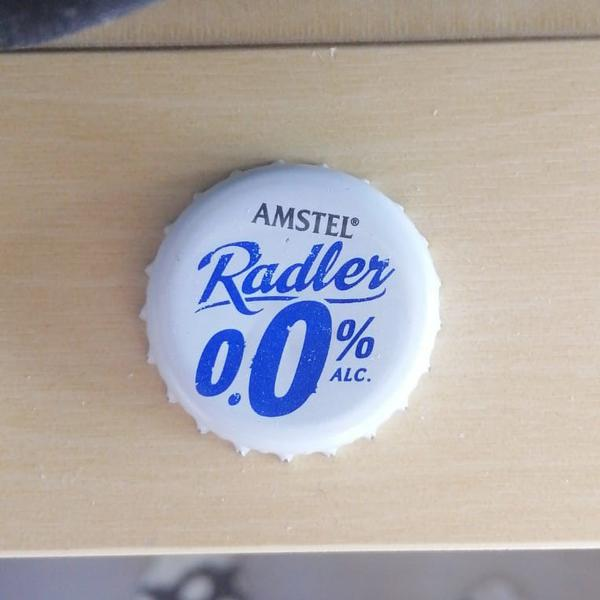amstelradler0.0: (127, 152, 452, 471)
